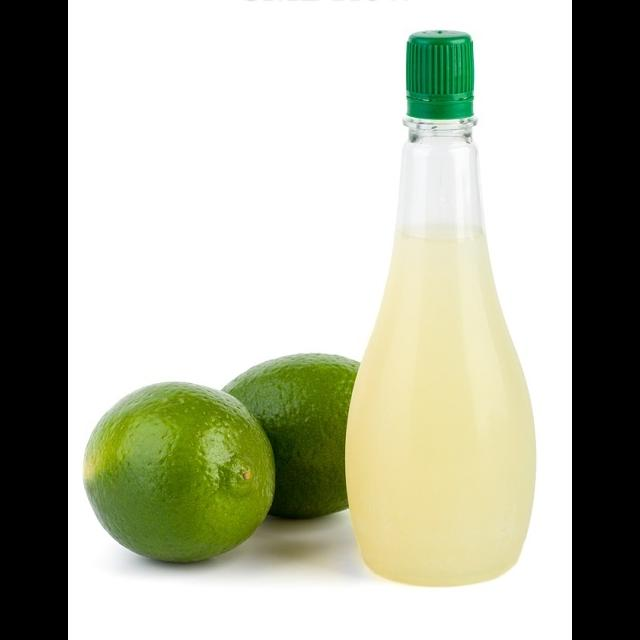lime: (70, 372, 286, 575), (200, 342, 382, 528)
